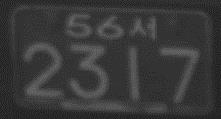1: (116, 45, 151, 102)
2: (22, 40, 63, 99)
3: (69, 42, 109, 100)
5: (66, 12, 93, 38)
6: (96, 14, 124, 39)
7: (159, 45, 200, 104)
서: (129, 15, 156, 42)
